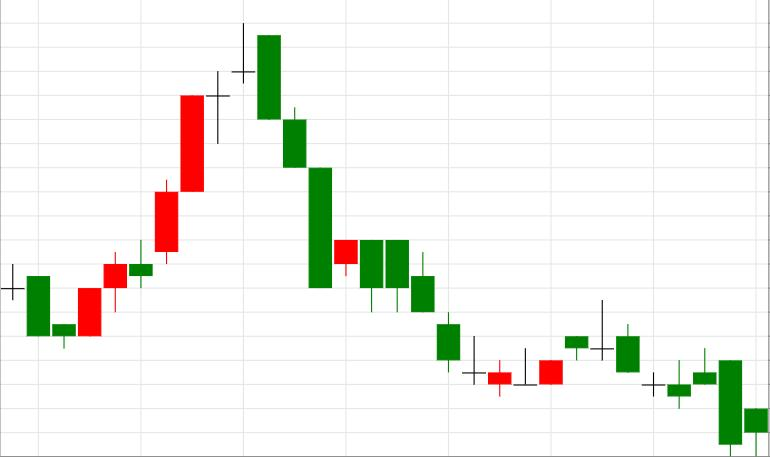three_black_crows_fall: (78, 22, 332, 337)
